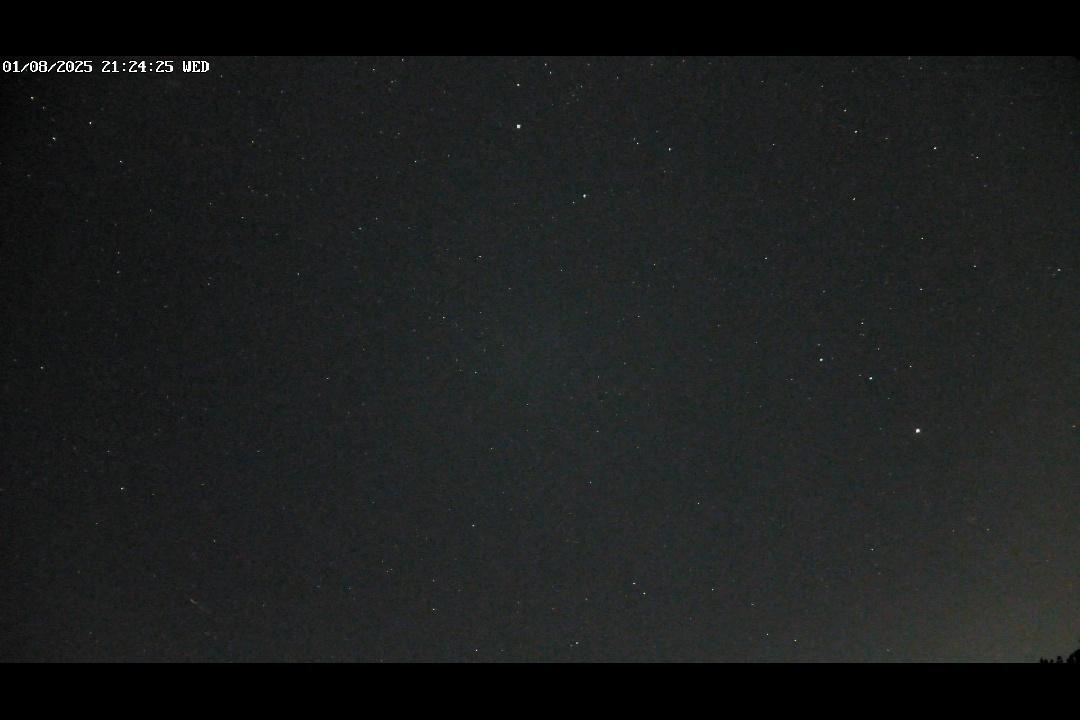Plane: (183, 594, 223, 623)
